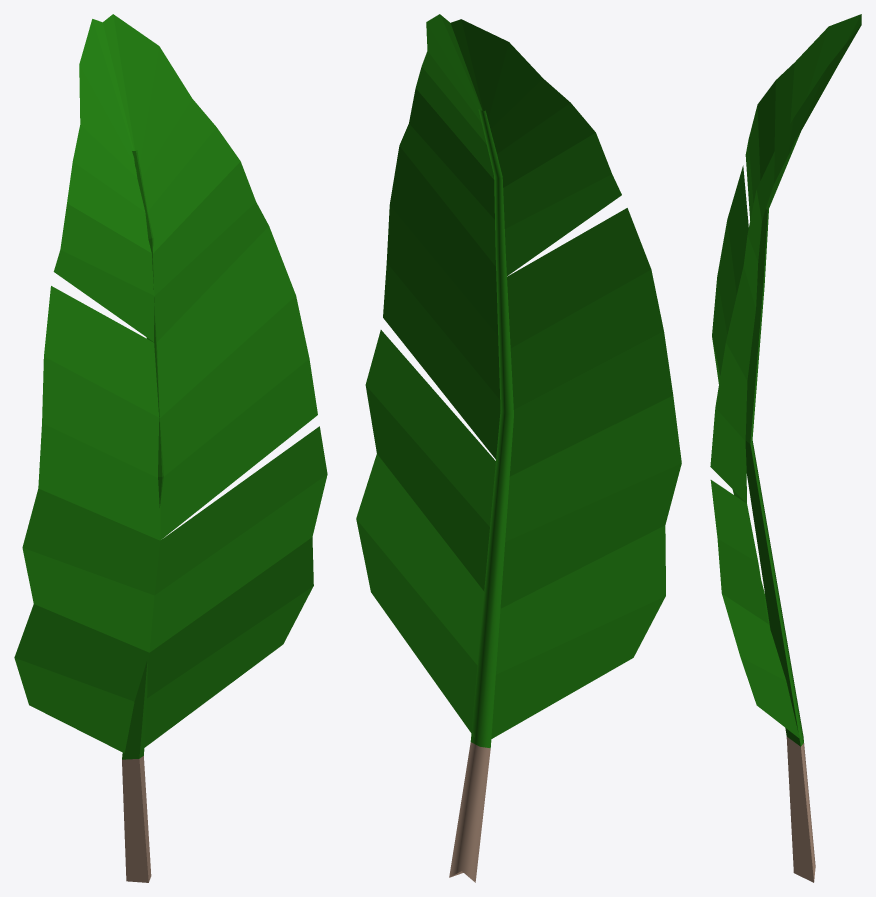
File: Palm_02_leaf.fbx
3 renders of one model, left to right at view 1: azimuth 30°, elevation 25°; view 2: azimuth 150°, elevation 25°; view 3: azimuth 270°, elevation 25°, orthographic. The views are drawn at different scales.
Visible parts, largest first — view 1: Palm_02_leaf; view 2: Palm_02_leaf; view 3: Palm_02_leaf.
Boxes of the visible parts, x1,y1,x2,y2 form: Palm_02_leaf: [14, 14, 327, 882]; Palm_02_leaf: [356, 14, 681, 882]; Palm_02_leaf: [710, 14, 861, 882].
Size of the model in its own units: 1.57 by 4.19 by 0.6742.
